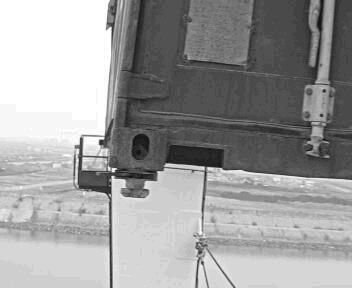twist_lock_1: (109, 167, 165, 206)
